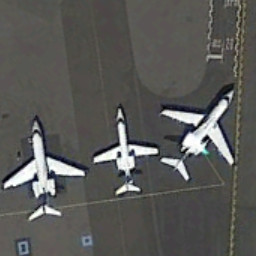Airplane: (1, 114, 87, 224), (160, 79, 237, 191), (88, 99, 162, 201)
